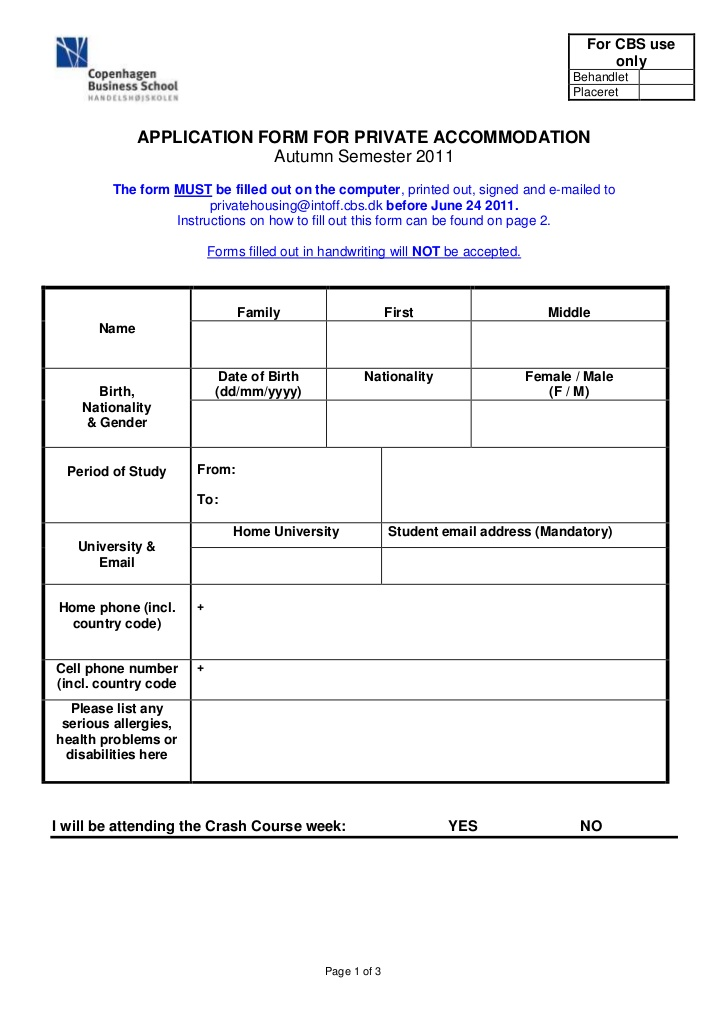textbox: (185, 695, 674, 787), (186, 580, 676, 667), (375, 441, 674, 527), (186, 657, 675, 704), (186, 443, 387, 528), (379, 541, 677, 592), (468, 392, 675, 452), (467, 313, 673, 373), (186, 543, 388, 588), (323, 315, 477, 373), (323, 394, 477, 452), (188, 316, 332, 373), (186, 396, 330, 453), (635, 80, 699, 105), (637, 66, 697, 88)
textline: (479, 809, 579, 845), (602, 808, 683, 843)
